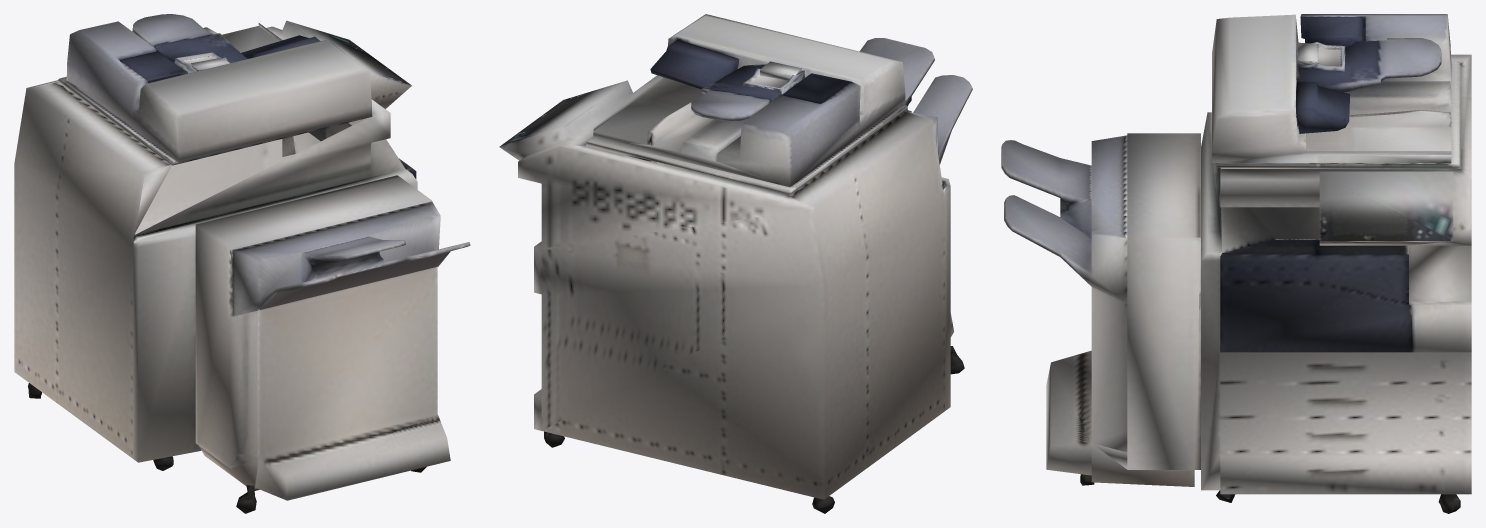
3 renders of one model, left to right at view 1: azimuth 30°, elevation 25°; view 2: azimuth 150°, elevation 25°; view 3: azimuth 270°, elevation 25°, orthographic. The views are drawn at different scales.
Visible parts, largest first — view 1: tripo_node_8d50d58f; view 2: tripo_node_8d50d58f; view 3: tripo_node_8d50d58f.
Boxes of the visible parts, x1,y1,x2,y2 form: tripo_node_8d50d58f: (14, 14, 470, 513); tripo_node_8d50d58f: (499, 14, 972, 513); tripo_node_8d50d58f: (1001, 14, 1471, 513).
Size of the model in its own units: 84.96 by 89.26 by 99.8.
1 material, 1 textured.
